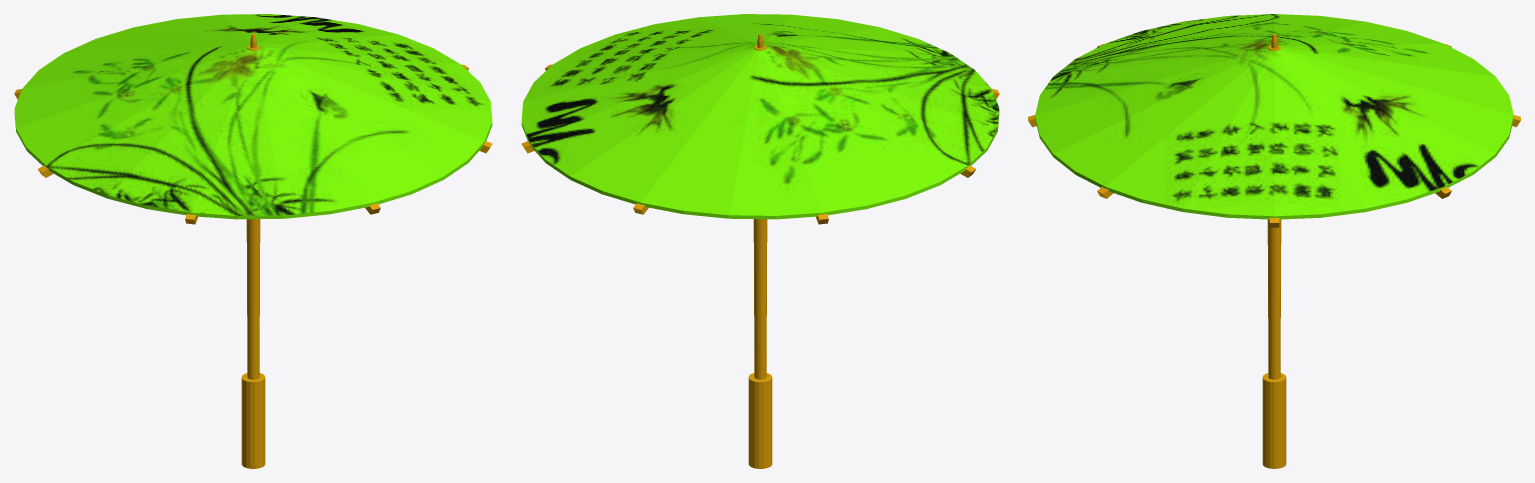
3 views of the same model, side by side, from view 1: azimuth 30°, elevation 25°; view 2: azimuth 150°, elevation 25°; view 3: azimuth 270°, elevation 25° (orthographic).
Visible parts, largest first — view 1: 柱体, 柱体.001; view 2: 柱体, 柱体.001; view 3: 柱体, 柱体.001.
Boxes of the visible parts, x1,y1,x2,y2 form: 柱体: [14, 14, 492, 219]; 柱体.001: [14, 34, 492, 468]; 柱体: [521, 14, 999, 219]; 柱体.001: [521, 34, 999, 468]; 柱体: [1035, 14, 1513, 219]; 柱体.001: [1028, 34, 1520, 468].
Bounding box in the file's own units: 2.06 × 1.98 × 2.06.
Materials: 2 (1 with a texture image).
